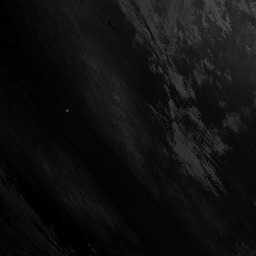Target: (65, 108, 69, 113)
